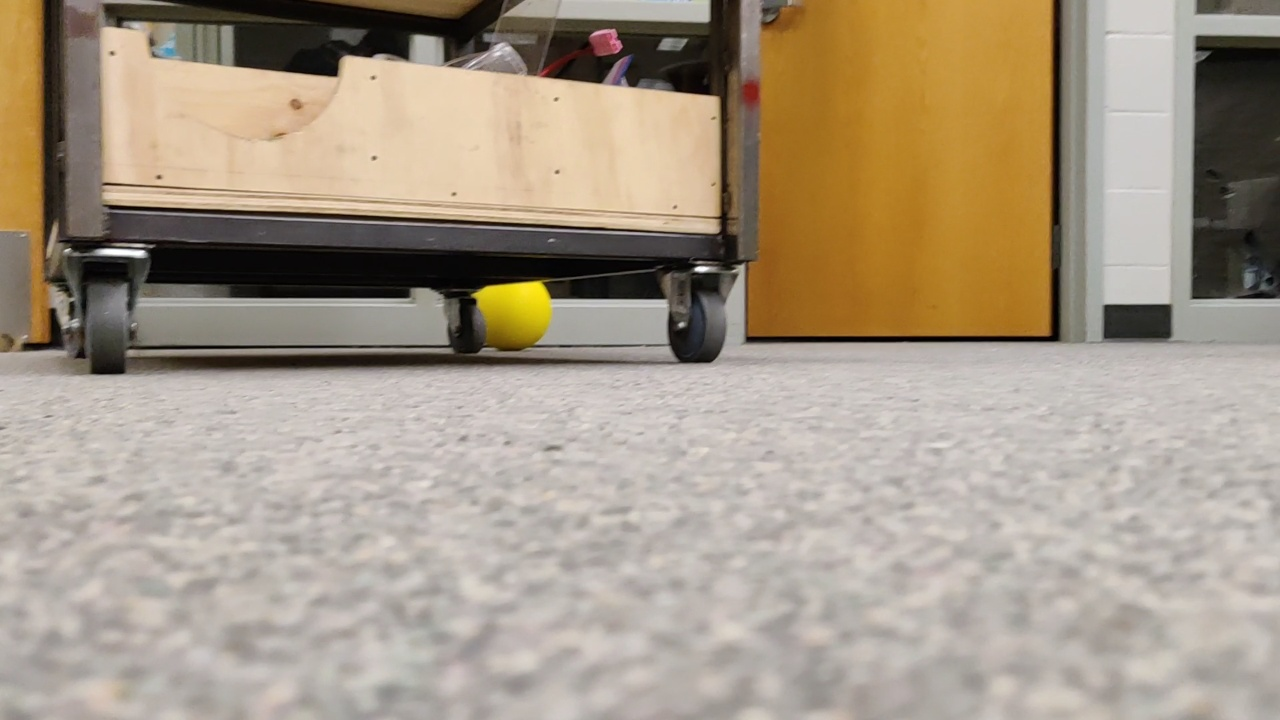Ball: (456, 271, 554, 350)
